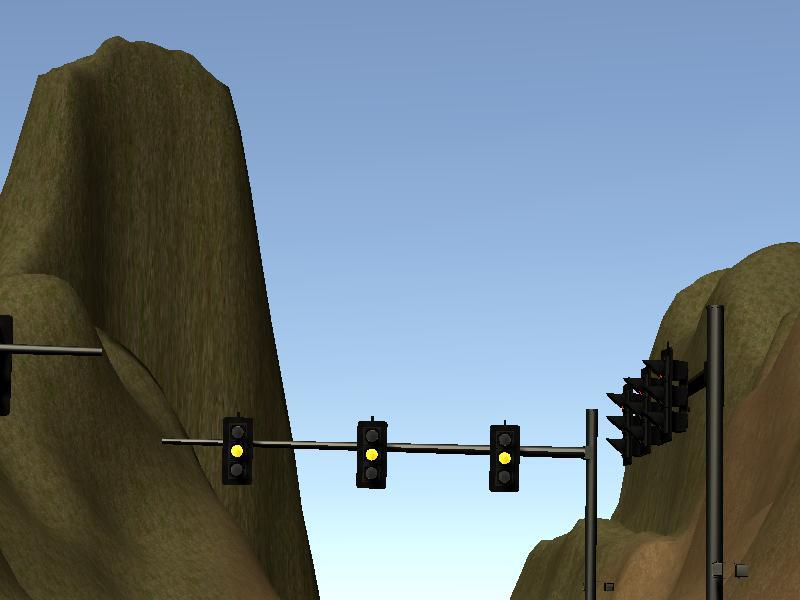Yellow: (221, 416, 252, 487), (490, 425, 521, 492), (358, 419, 387, 489)
